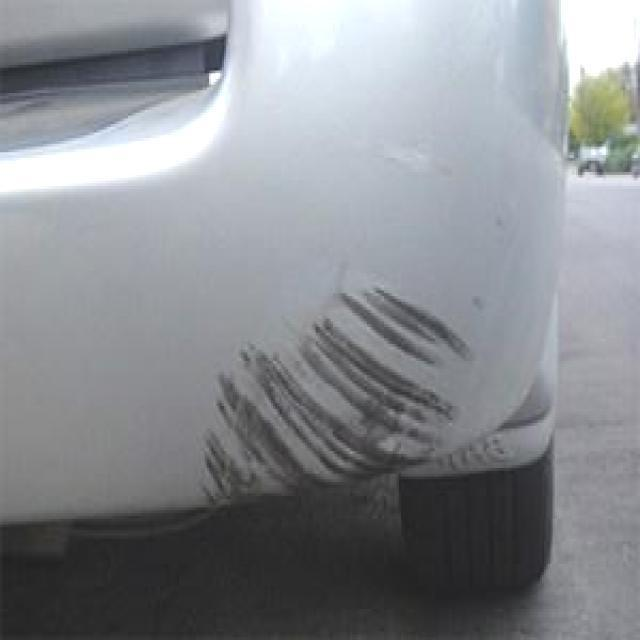minor: (400, 427, 550, 481)
moderate: (191, 247, 519, 498)
